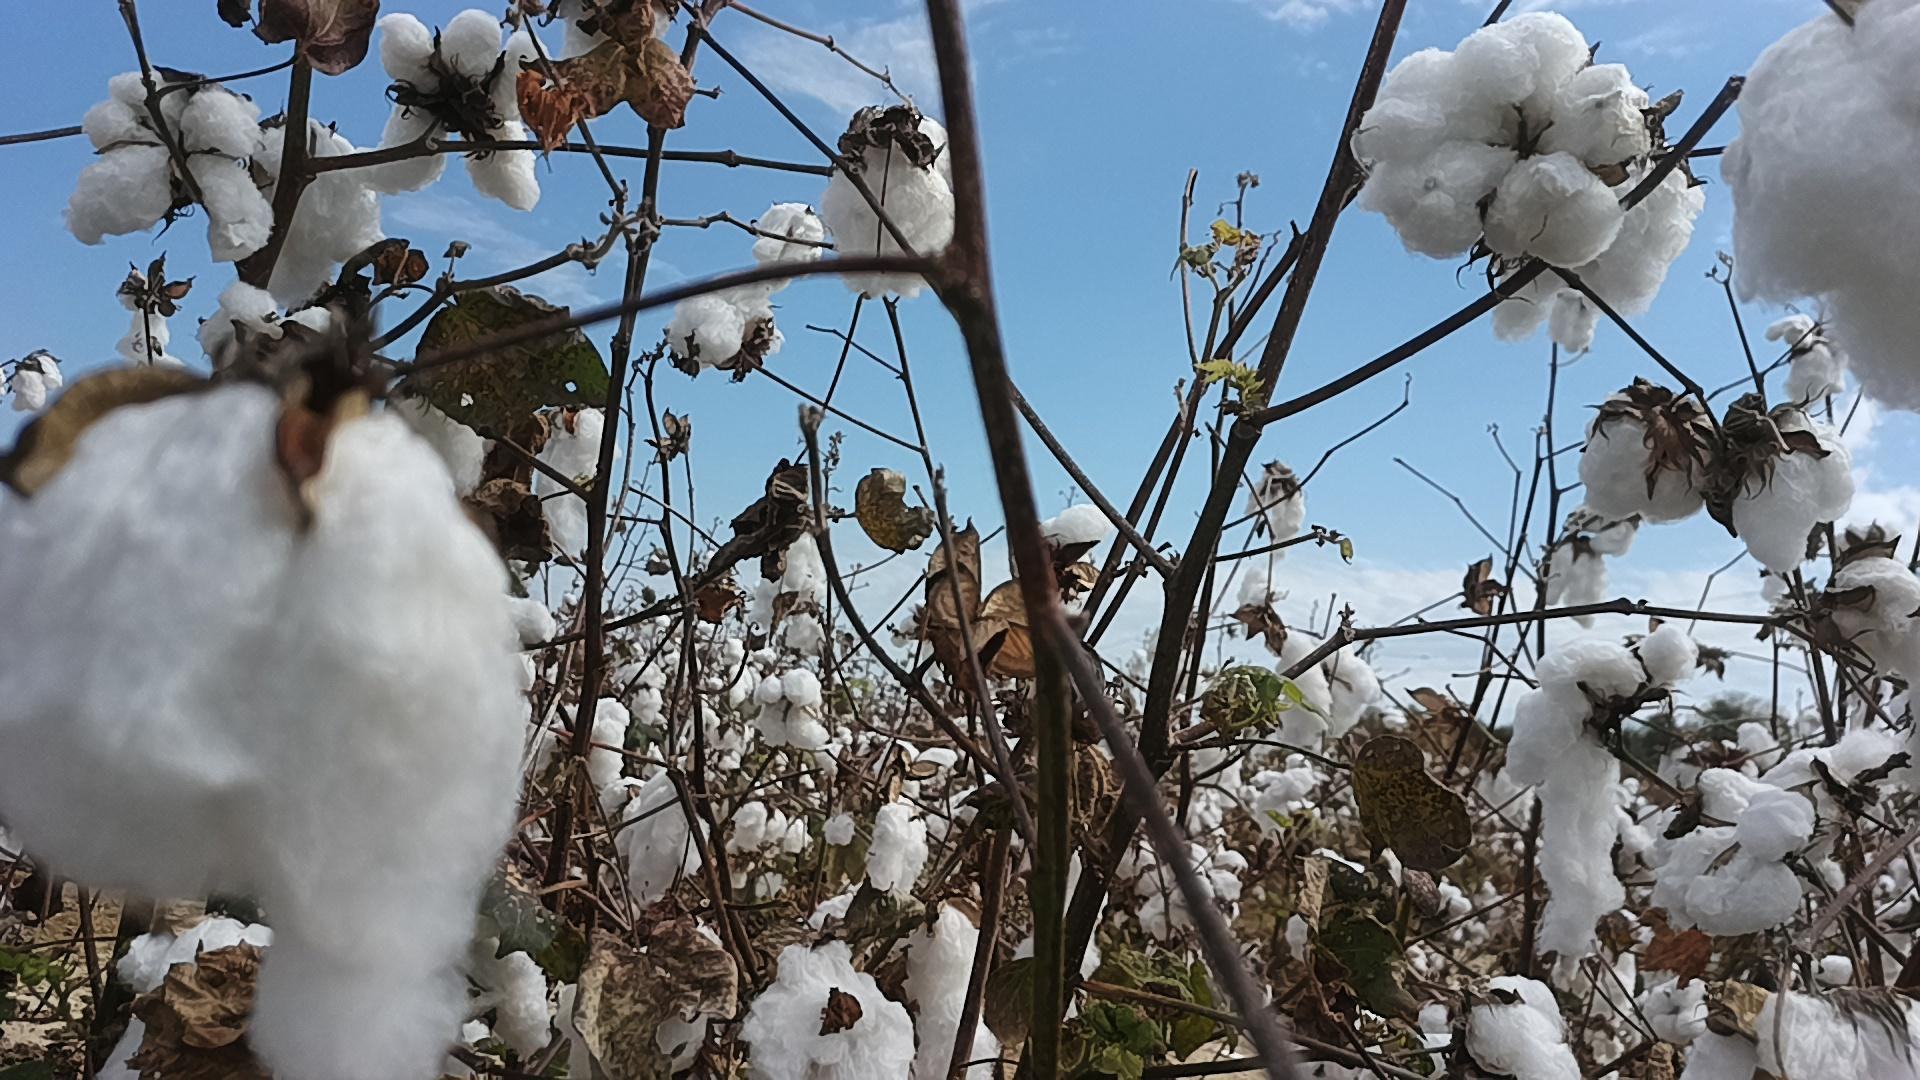cotton_ready: (0, 373, 530, 1080), (1726, 0, 1920, 418), (1350, 9, 1648, 265), (1506, 625, 1698, 951), (1658, 737, 1920, 935), (62, 66, 278, 265), (1484, 157, 1708, 340), (380, 8, 549, 211), (244, 116, 398, 311), (94, 920, 278, 1080), (824, 111, 963, 297), (736, 945, 918, 1080), (1722, 415, 1861, 568), (1577, 385, 1708, 526), (914, 901, 1004, 1080), (1758, 982, 1920, 1080), (530, 405, 628, 558), (1461, 976, 1588, 1080), (451, 928, 551, 1055), (1275, 634, 1381, 750), (1830, 555, 1920, 688), (388, 385, 491, 501), (667, 277, 790, 371), (1011, 505, 1116, 575)
